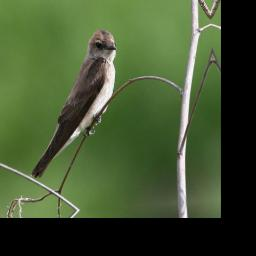Swallow: (20, 27, 124, 181)
